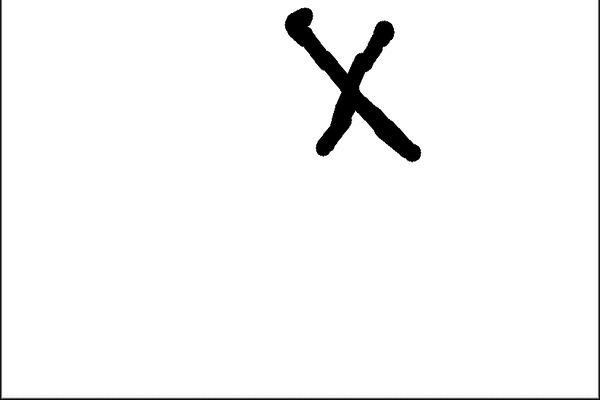X: (268, 7, 450, 168)
